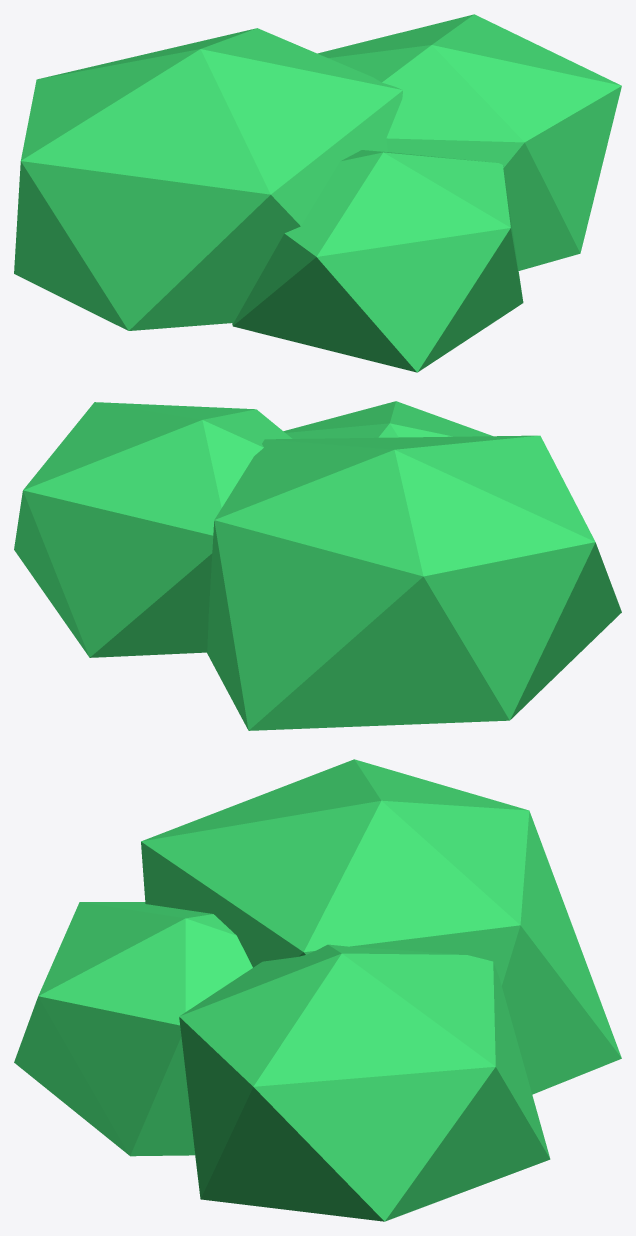
File: bush 1.fbx
3 renders of one model, top to bottom at view 1: azimuth 30°, elevation 25°; view 2: azimuth 150°, elevation 25°; view 3: azimuth 270°, elevation 25°, orthographic. The views are drawn at different scales.
Parts seen in each view (by area): view 1: Icosphere.001; view 2: Icosphere.001; view 3: Icosphere.001.
Part boxes in pixels (x1,y1,x2,y2): Icosphere.001: (14, 14, 621, 372); Icosphere.001: (14, 401, 621, 730); Icosphere.001: (14, 759, 621, 1221).
Size of the model in its own units: 127 by 50.28 by 105.
